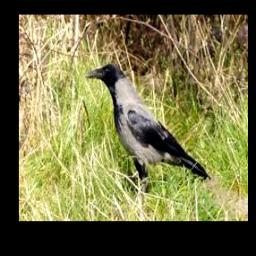Crow: (85, 64, 211, 192)
